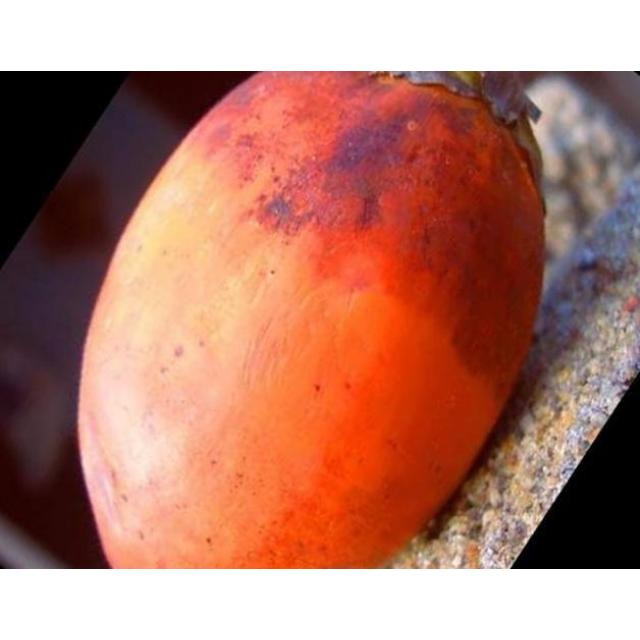good: (74, 71, 547, 568)
